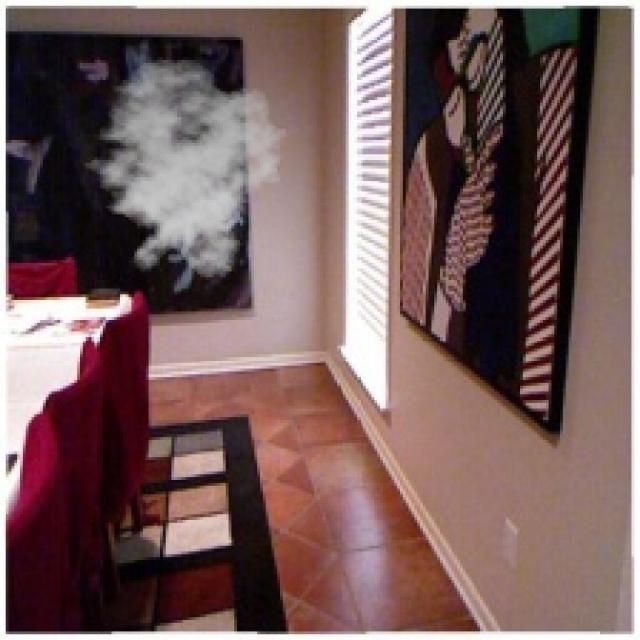smoke: (74, 57, 294, 280)
